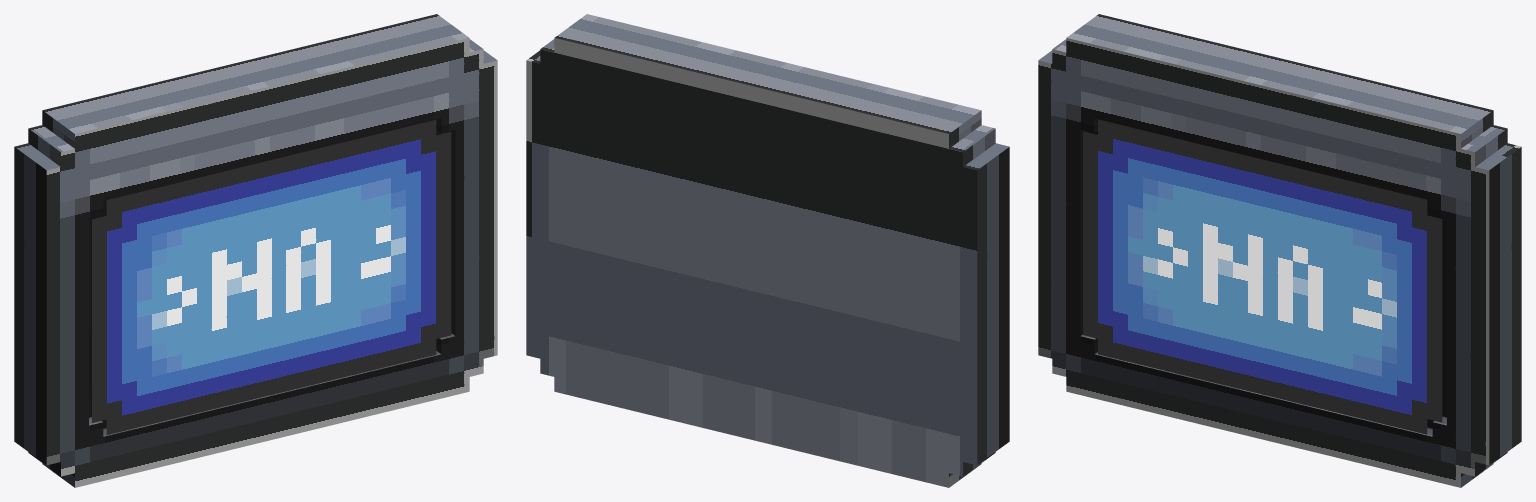
Rendered from status_display_ai_download.glb.
The picture shows the model from 3 angles, left to right: view 1: azimuth 30°, elevation 25°; view 2: azimuth 150°, elevation 25°; view 3: azimuth 330°, elevation 25°; orthographic projection.
Visible parts, largest first — view 1: Continuous_Frame, Picture_Overlay, Recessed_Glass; view 2: Continuous_Frame; view 3: Continuous_Frame, Picture_Overlay, Recessed_Glass.
Boxes of the visible parts, left/top/right/bottom form: Continuous_Frame: left=14, top=14, right=497, bottom=487; Picture_Overlay: left=92, top=120, right=451, bottom=434; Recessed_Glass: left=89, top=119, right=454, bottom=436; Continuous_Frame: left=526, top=14, right=1009, bottom=487; Continuous_Frame: left=1038, top=14, right=1521, bottom=487; Picture_Overlay: left=1083, top=119, right=1442, bottom=434; Recessed_Glass: left=1081, top=119, right=1446, bottom=435.
Bounding box in the file's own units: 0.9 × 0.675 × 0.1129.
Materials: 3 (3 with a texture image).
